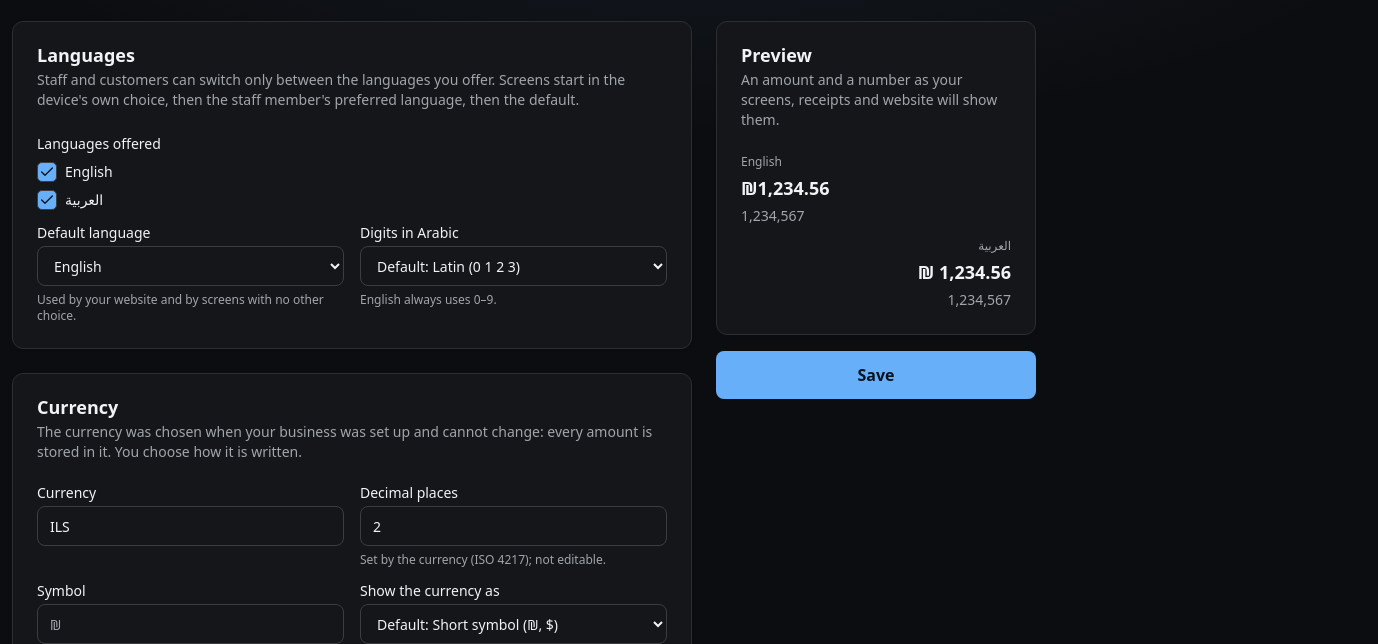
Scenario: language and currency page (ADR 0020) › saves one language, Arabic digits and a symbol, previewing them as typed
Step 1. Click the 1st checkbox named "English" → click(47, 172), box x1=37 y1=162 x2=57 y2=182
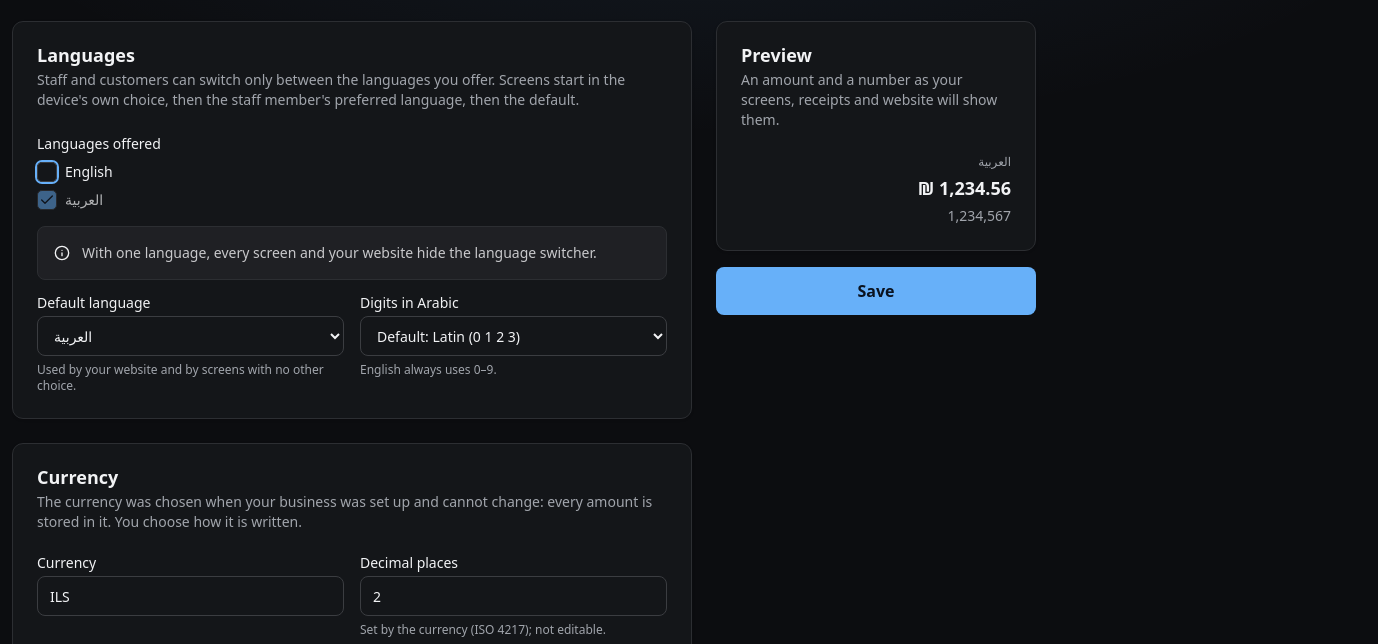
Result: the dropdown labelled "Default language" shows "العربية" at x1=37 y1=316 x2=344 y2=356
Result: the 2nd checkbox named "العربية" is disabled at x1=37 y1=190 x2=57 y2=210
Result: the text "hide the language switcher" is shown at x1=82 y1=243 x2=597 y2=262
Step 2. Select "Arabic-Indic (٠ ١ ٢ ٣)" in the dropdown labelled "Digits in Arabic" → (514, 336), box x1=360 y1=316 x2=667 y2=356
(page scrolled)
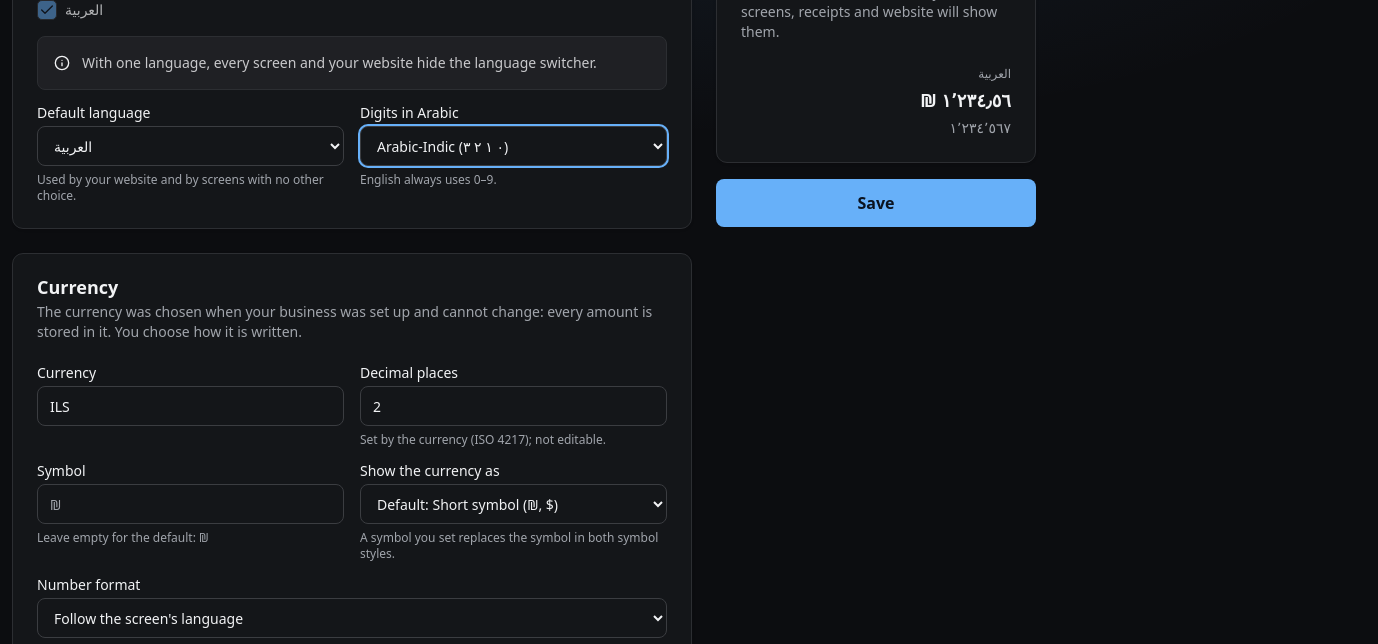
Step 3. Type "NIS" into the field labelled "Symbol" → (190, 504), box x1=37 y1=484 x2=344 y2=524
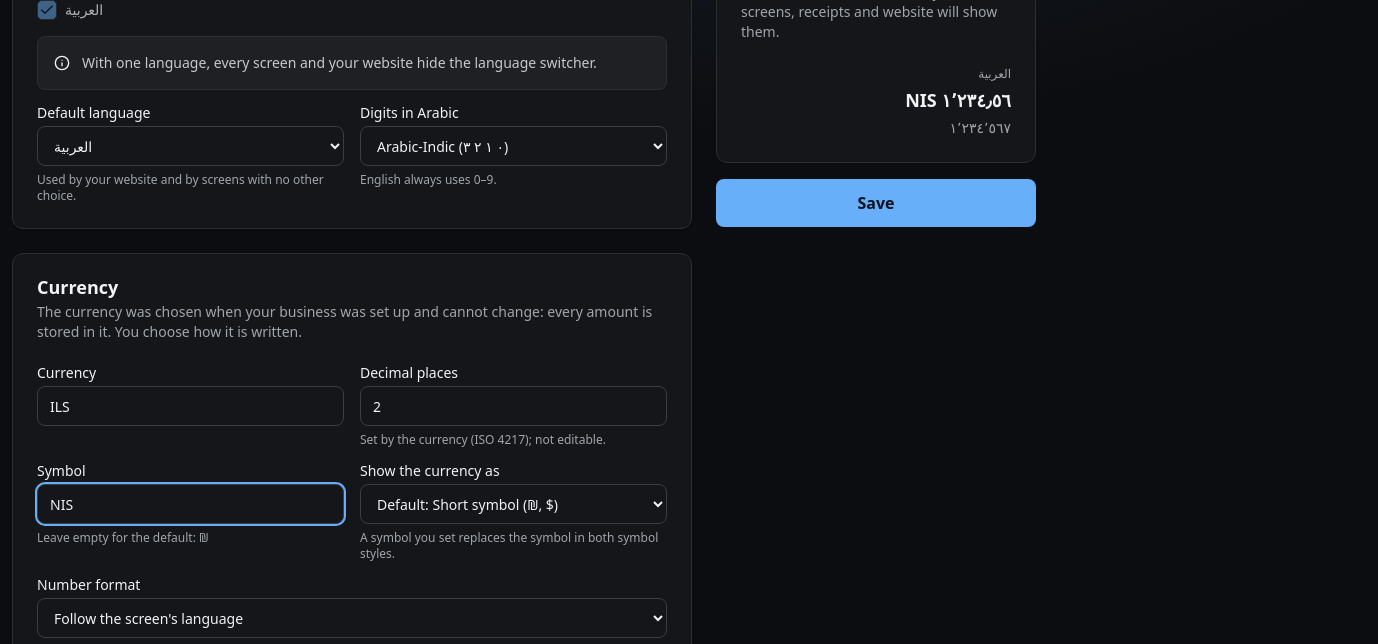
Result: the text with test id "preview-ar" shows "١٬٢٣٤٫٥٦ NIS" at x1=905 y1=88 x2=1011 y2=112
Step 4. Click the button "Save" → click(876, 203), box x1=716 y1=179 x2=1036 y2=227
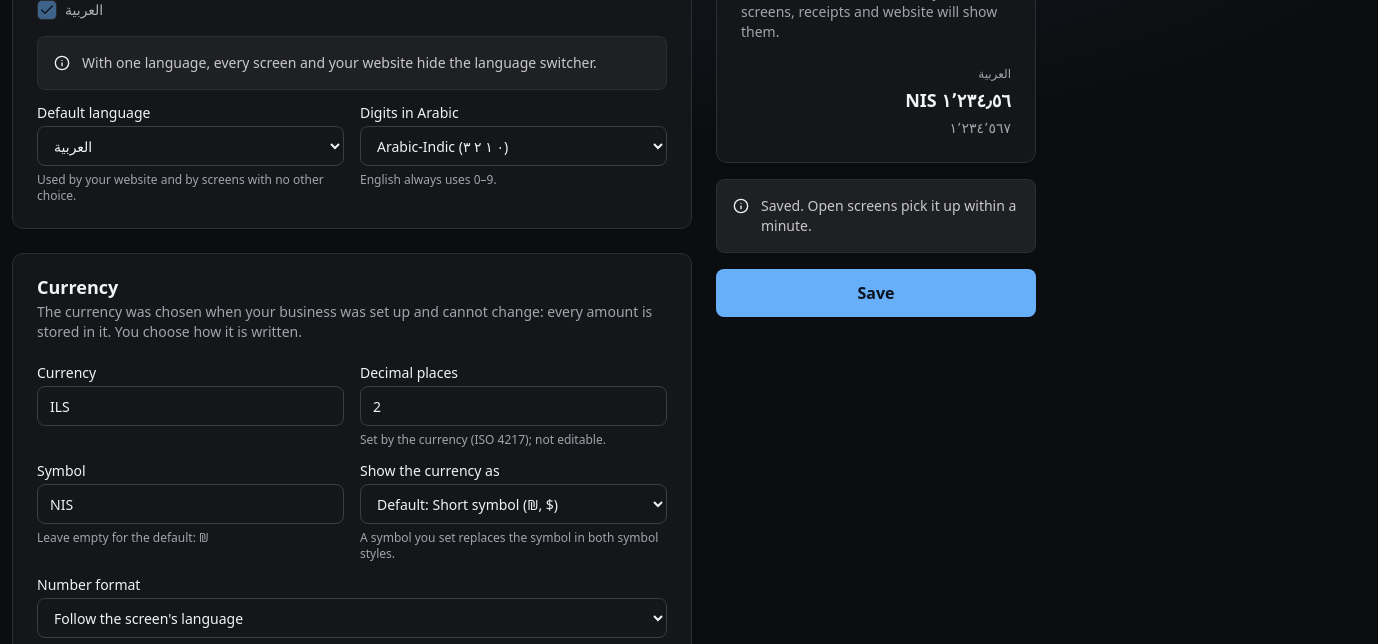
Result: the text "Saved. Open screens pick it up within a minute." is shown at x1=761 y1=196 x2=1019 y2=236
